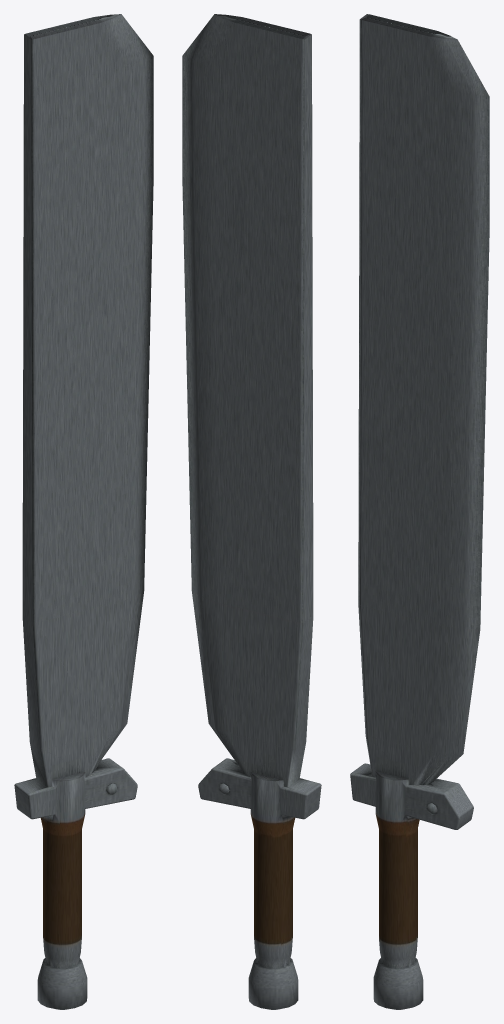
The model's file is cleaver-plain.glb.
3 renders of one model, left to right at view 1: azimuth 30°, elevation 25°; view 2: azimuth 150°, elevation 25°; view 3: azimuth 330°, elevation 25°, orthographic.
Visible parts, largest first — view 1: cleaver-plain; view 2: cleaver-plain; view 3: cleaver-plain.
Boxes of the visible parts, box(x1,y1,x2,y2) form: cleaver-plain: box(14, 14, 153, 1009); cleaver-plain: box(182, 14, 321, 1009); cleaver-plain: box(350, 14, 489, 1009).
Size of the model in its own units: 0.1402 by 0.99 by 0.046.
Materials: 1 (1 with a texture image).
